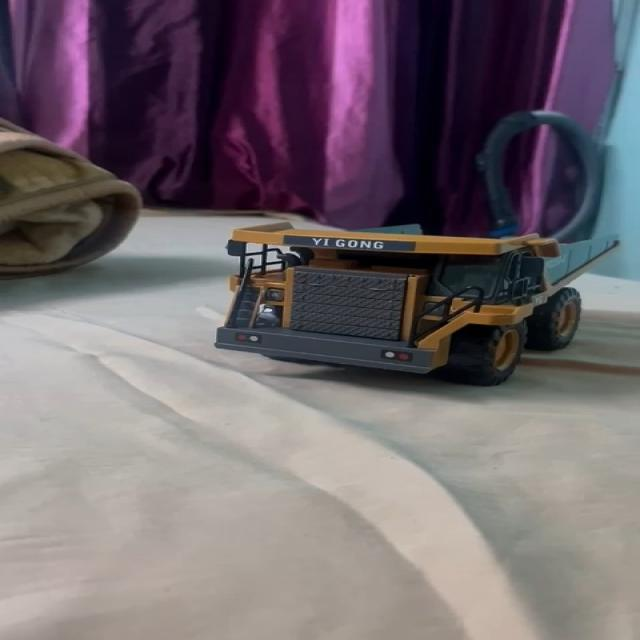dump_truck: (205, 221, 628, 380)
